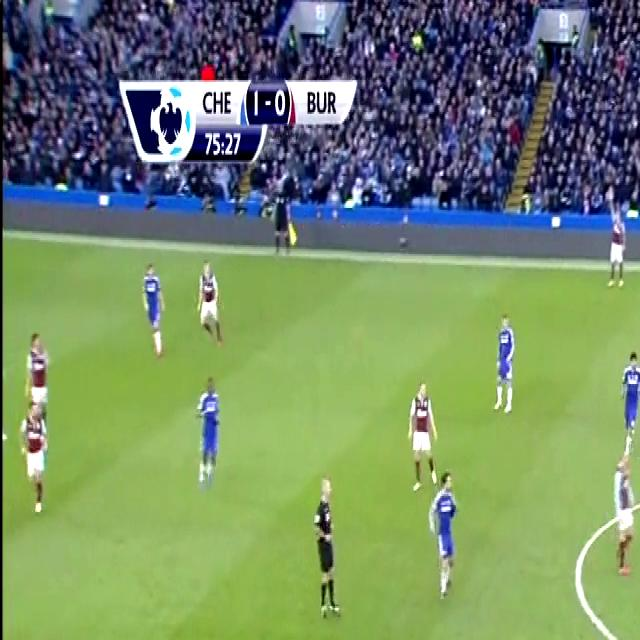referee: (304, 467, 344, 629), (265, 172, 302, 262)
soccer-player: (424, 468, 466, 608), (606, 439, 640, 589), (403, 370, 443, 497), (191, 370, 229, 494), (17, 393, 51, 520), (488, 304, 521, 426), (136, 251, 172, 361), (193, 247, 228, 350), (21, 321, 52, 430), (612, 345, 640, 453), (605, 202, 633, 300)
